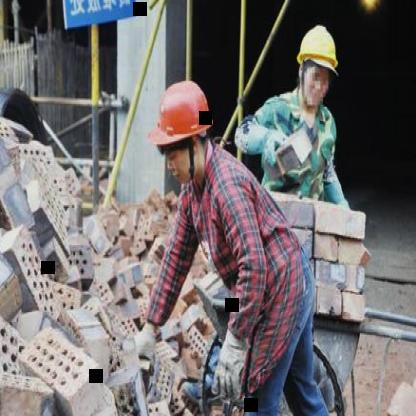helmet: (148, 73, 218, 185), (294, 20, 342, 120)
